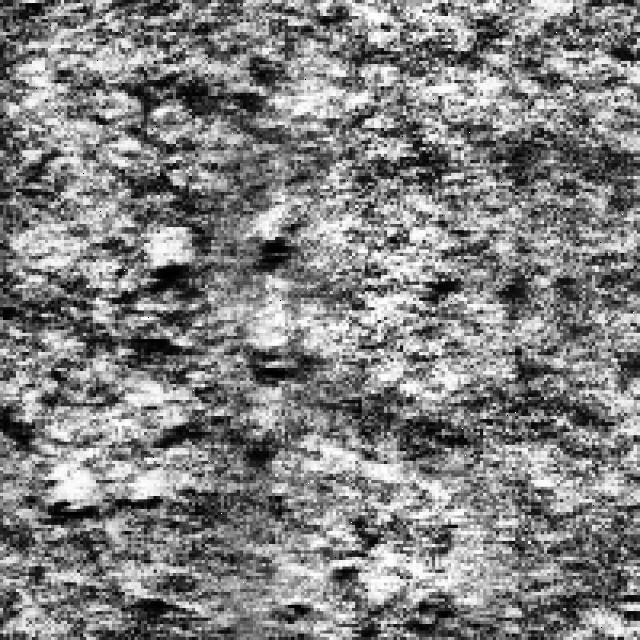Crazing: (13, 223, 304, 534)
